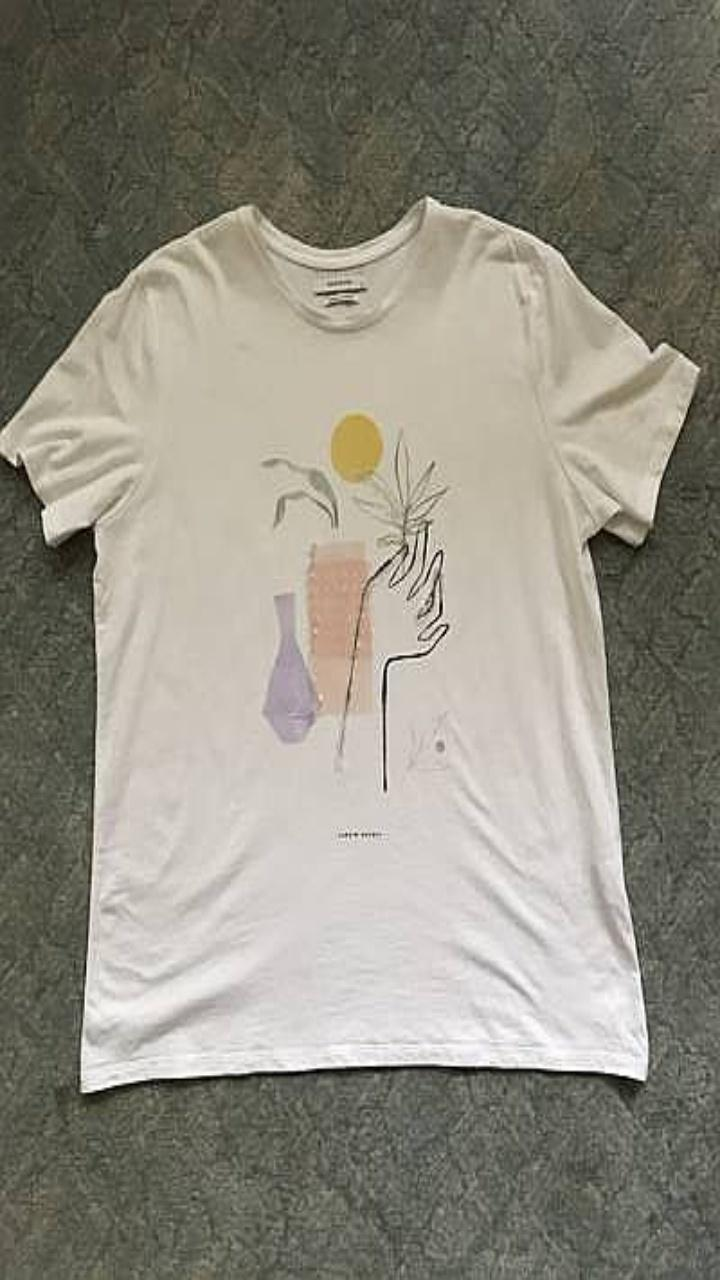T-Shirt: (0, 195, 698, 1092)
